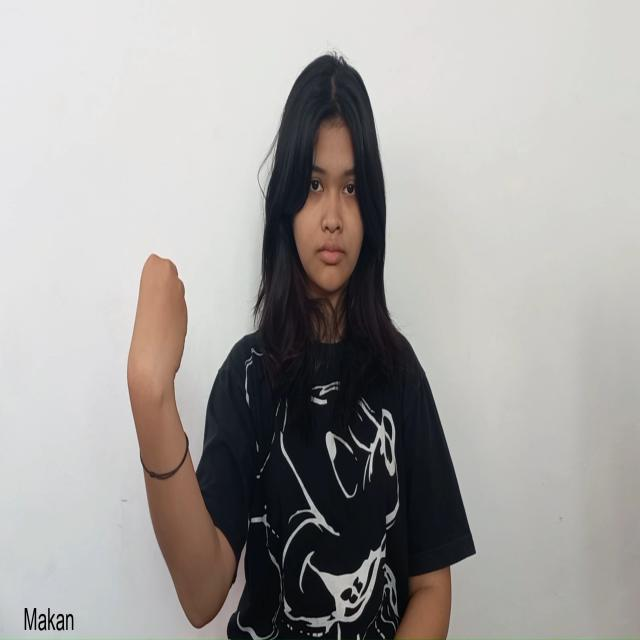Makan -BISINDO-: (126, 252, 188, 425)
